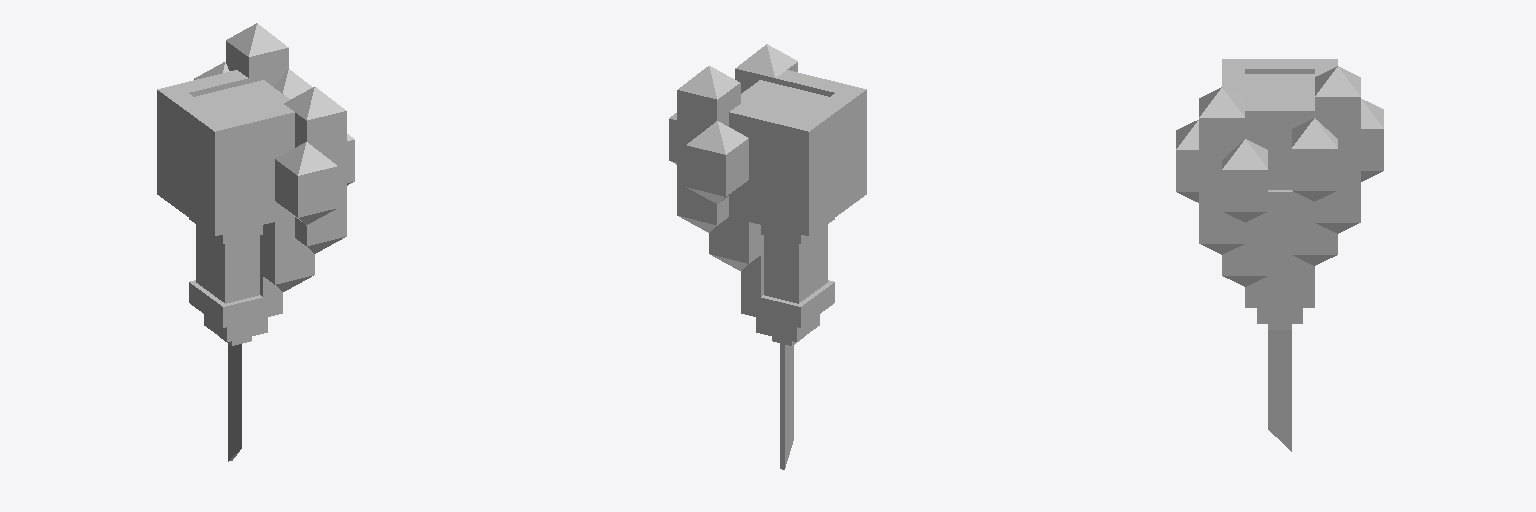
The model's file is arm_blade_r.obj.
3 renders of one model, left to right at view 1: azimuth 30°, elevation 25°; view 2: azimuth 150°, elevation 25°; view 3: azimuth 270°, elevation 25°, orthographic.
Parts seen in each view (by area): view 1: ARM_RIGHT_BLADE_Cube.044, ARM_RIGHT_DECO_DIAMOND_Cube.359; view 2: ARM_RIGHT_BLADE_Cube.044, ARM_RIGHT_DECO_DIAMOND_Cube.359; view 3: ARM_RIGHT_DECO_DIAMOND_Cube.359, ARM_RIGHT_BLADE_Cube.044.
Boxes of the visible parts, box(x1,y1,x2,y2) form: ARM_RIGHT_BLADE_Cube.044: box(157, 70, 294, 461); ARM_RIGHT_DECO_DIAMOND_Cube.359: box(194, 23, 354, 291); ARM_RIGHT_BLADE_Cube.044: box(729, 70, 866, 469); ARM_RIGHT_DECO_DIAMOND_Cube.359: box(669, 44, 797, 270); ARM_RIGHT_DECO_DIAMOND_Cube.359: box(1176, 66, 1383, 286); ARM_RIGHT_BLADE_Cube.044: box(1222, 59, 1337, 451).
Bounding box in the file's own units: 0.4375 × 1.22 × 0.5625.